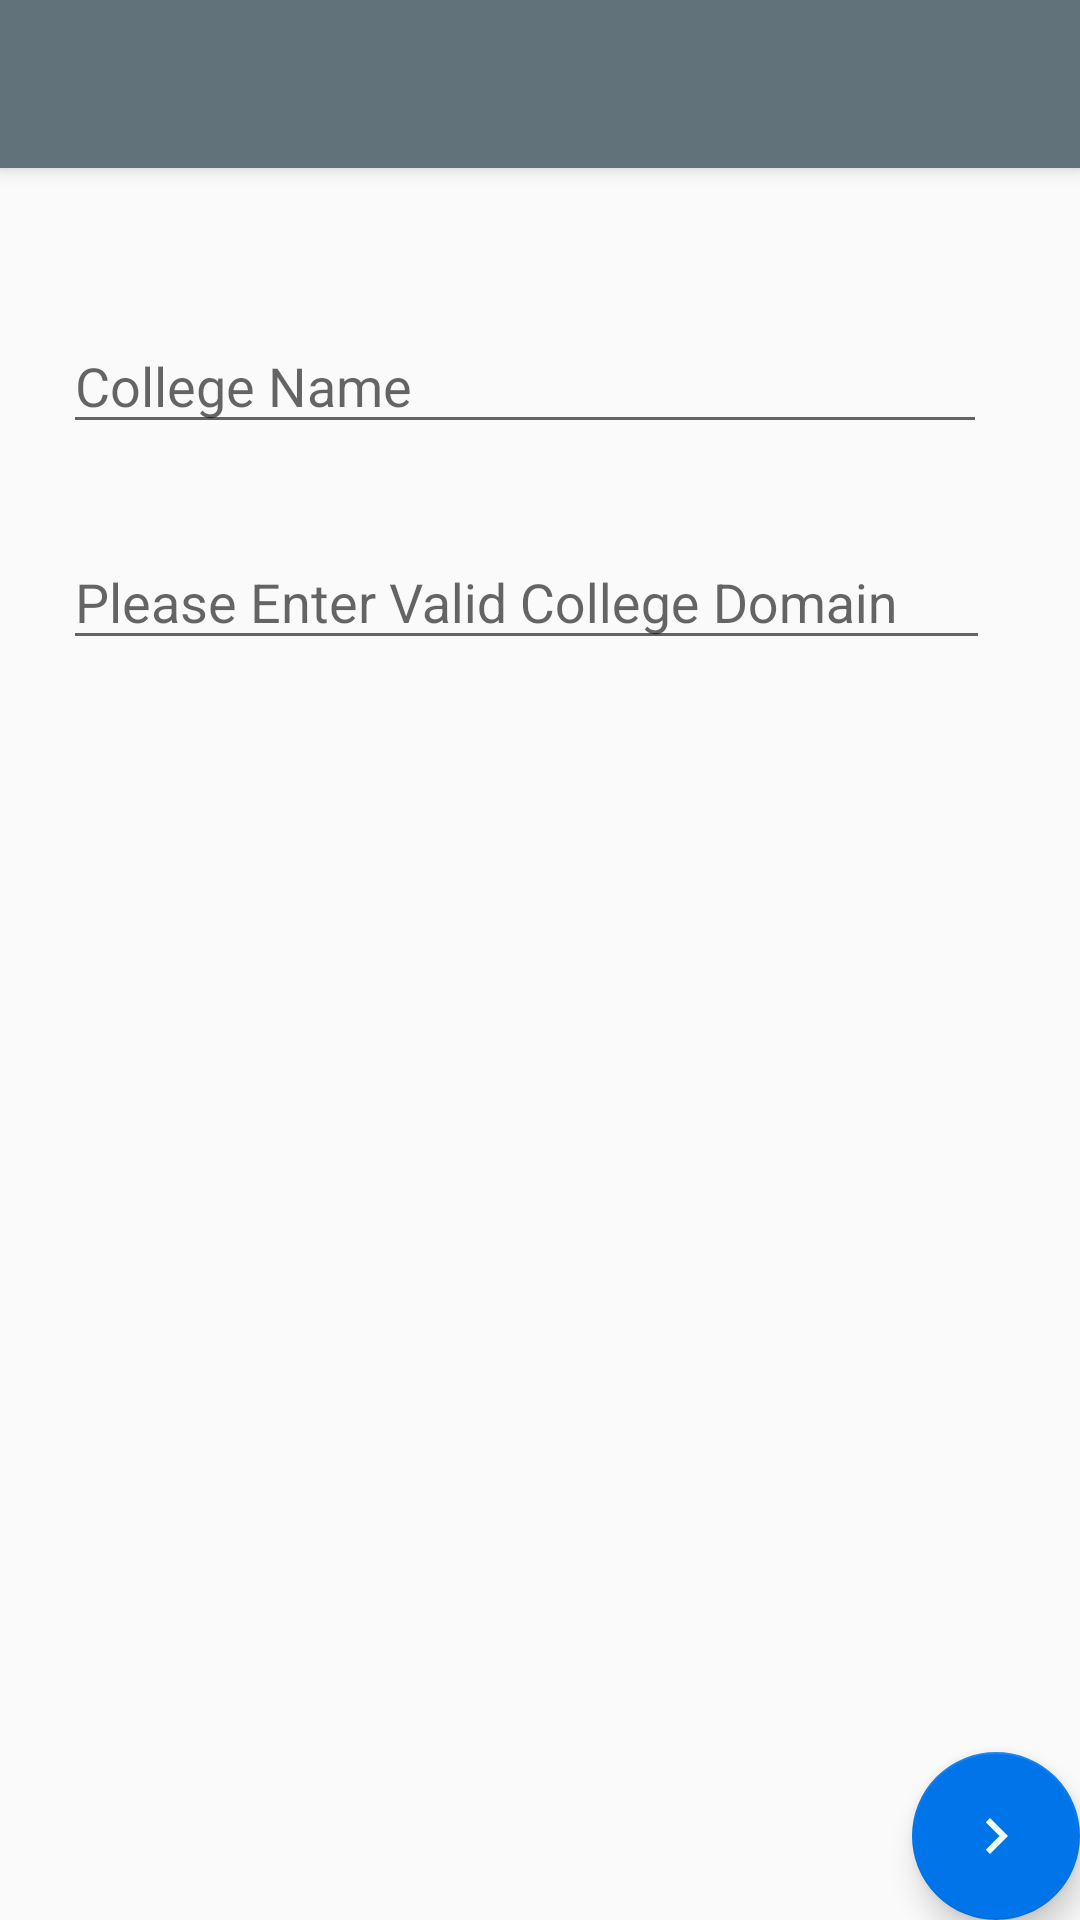

Icon bounding boxes for this 1080px x 1920px phone screenshot, format (x1, y1, x2, y2):
navigate next: (912, 1752, 1080, 1920)
